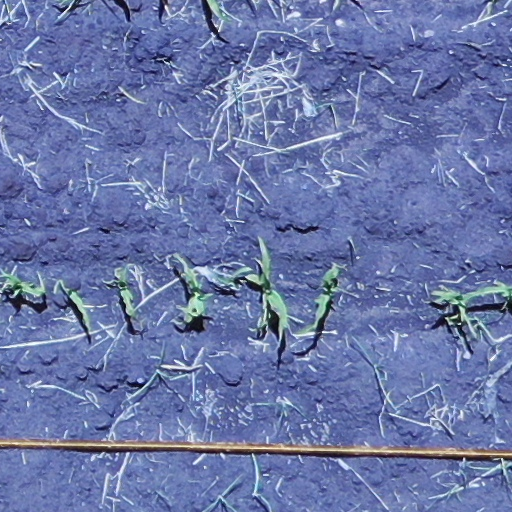planta: (246, 237, 288, 336), (294, 266, 339, 337), (430, 290, 479, 340), (54, 276, 92, 333), (183, 266, 211, 325), (117, 267, 138, 317)
